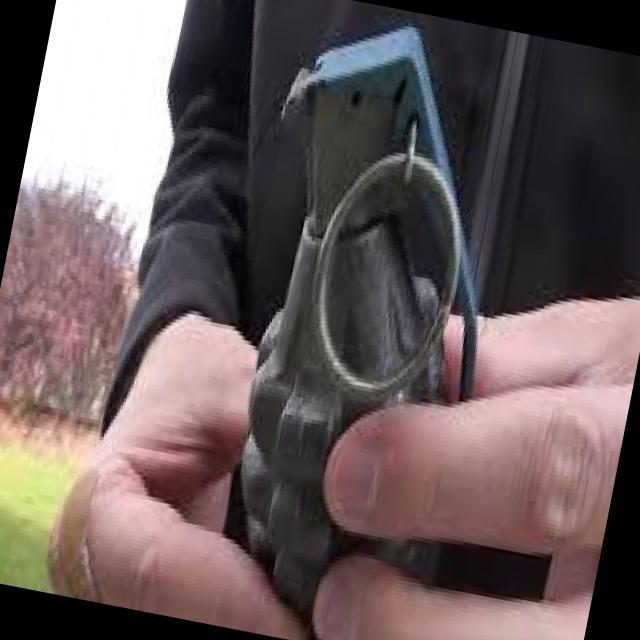grenade: (185, 16, 539, 625)
